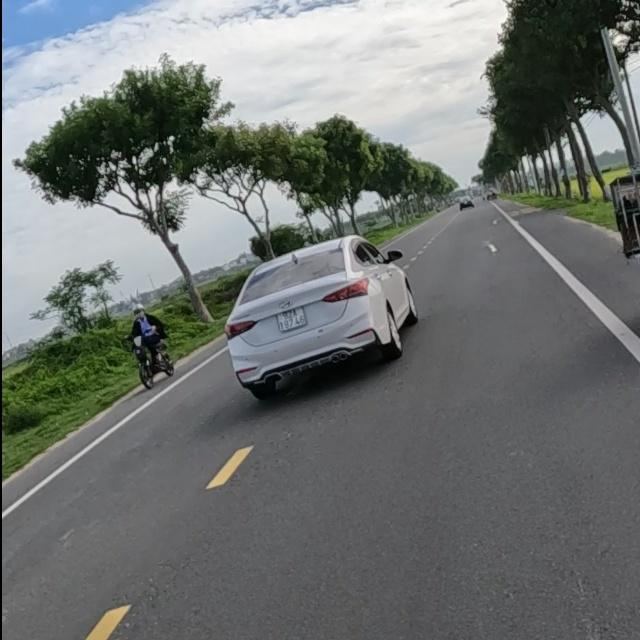license-plate: (275, 306, 307, 333)
